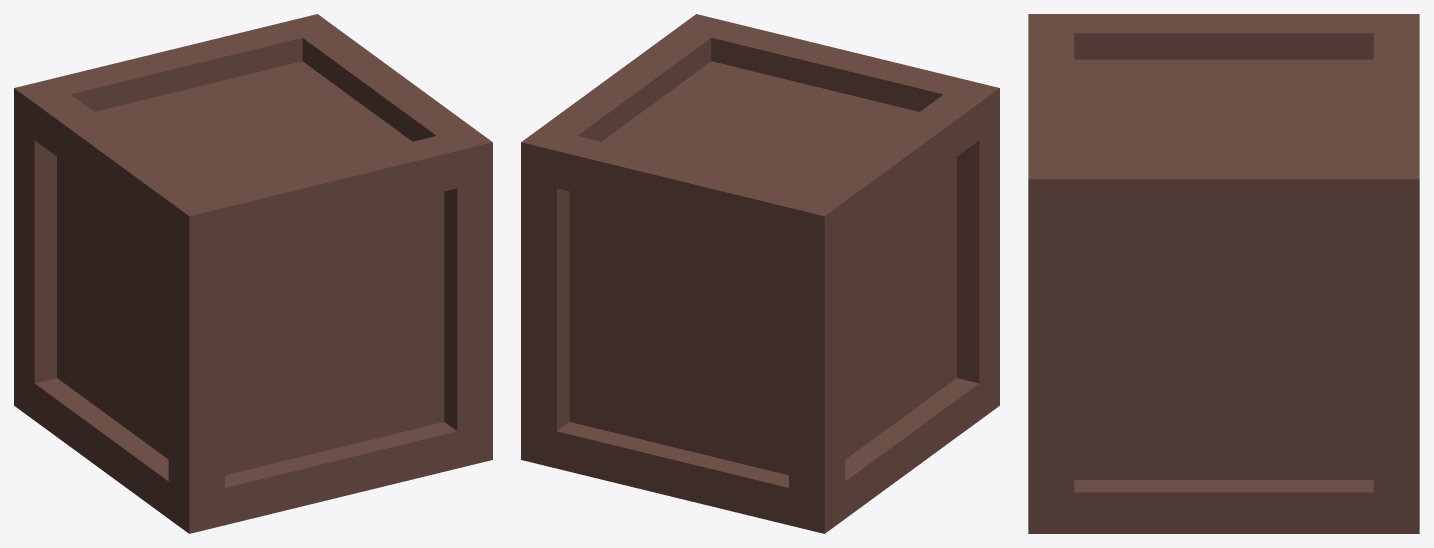
Rendered from WoodenBox_01.fbx.
3 views of the same model, side by side, from view 1: azimuth 30°, elevation 25°; view 2: azimuth 150°, elevation 25°; view 3: azimuth 270°, elevation 25° (orthographic). The views are drawn at different scales.
Visible parts, largest first — view 1: Cube.272; view 2: Cube.272; view 3: Cube.272.
Boxes of the visible parts, box(x1,y1,x2,y2) form: Cube.272: box(14, 14, 492, 533); Cube.272: box(521, 14, 999, 533); Cube.272: box(1028, 14, 1419, 533).
Size of the model in its own units: 67.39 by 67.39 by 67.39.
